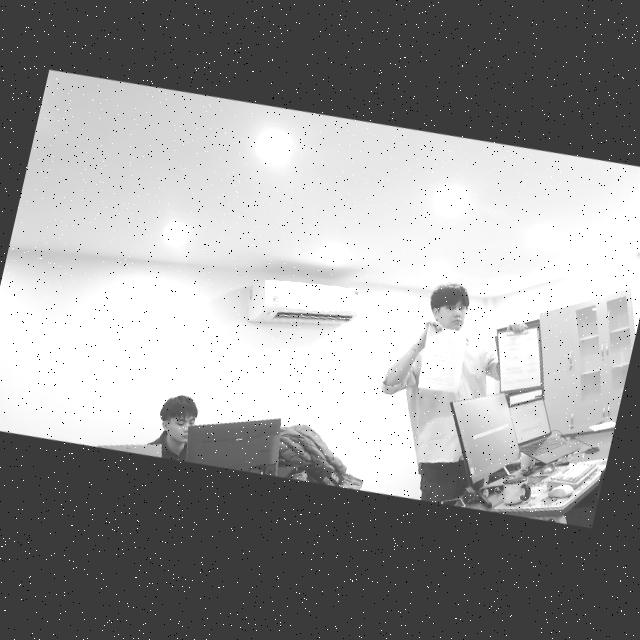document: (417, 325, 467, 393), (498, 328, 540, 391)
face: (142, 393, 195, 446), (426, 281, 473, 330)
